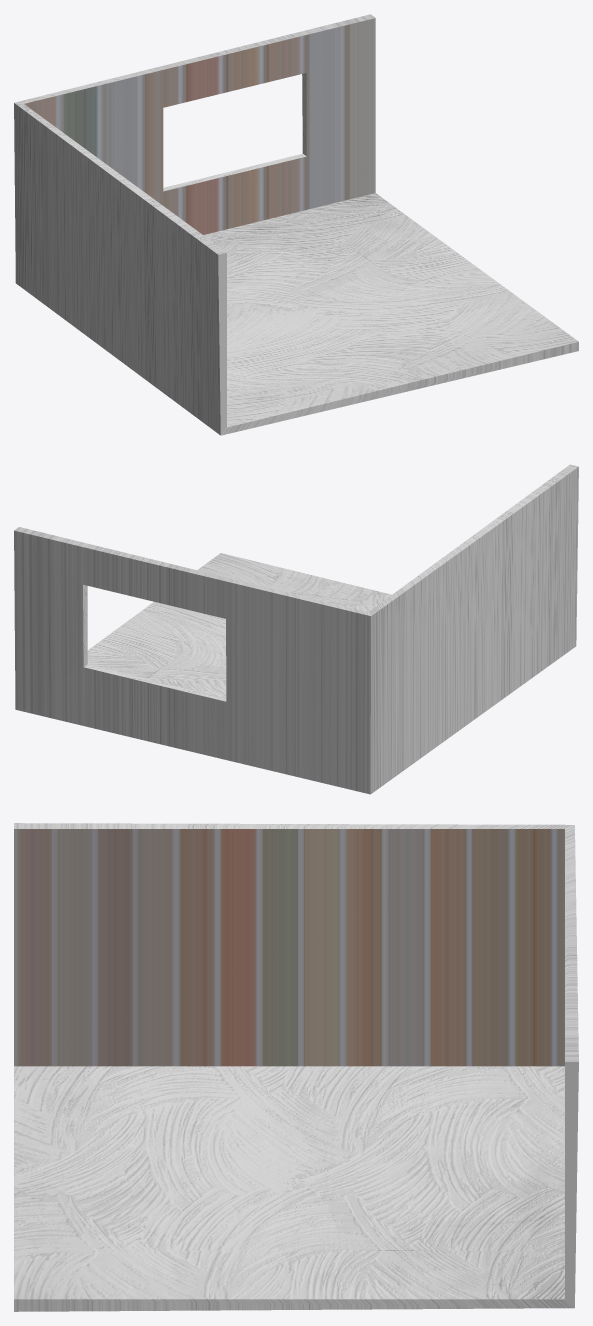
File: room1.fbx
3 views of the same model, one above another, from view 1: azimuth 30°, elevation 25°; view 2: azimuth 150°, elevation 25°; view 3: azimuth 270°, elevation 25° (orthographic). The views are drawn at different scales.
Visible parts, largest first — view 1: Plane; view 2: Plane; view 3: Plane.
Boxes of the visible parts, x1=… form: Plane: x1=14, y1=14, x2=578, y2=435; Plane: x1=14, y1=464, x2=578, y2=794; Plane: x1=14, y1=823, x2=578, y2=1311.
Bounding box in the file's own units: 1228 × 599 × 1228.
